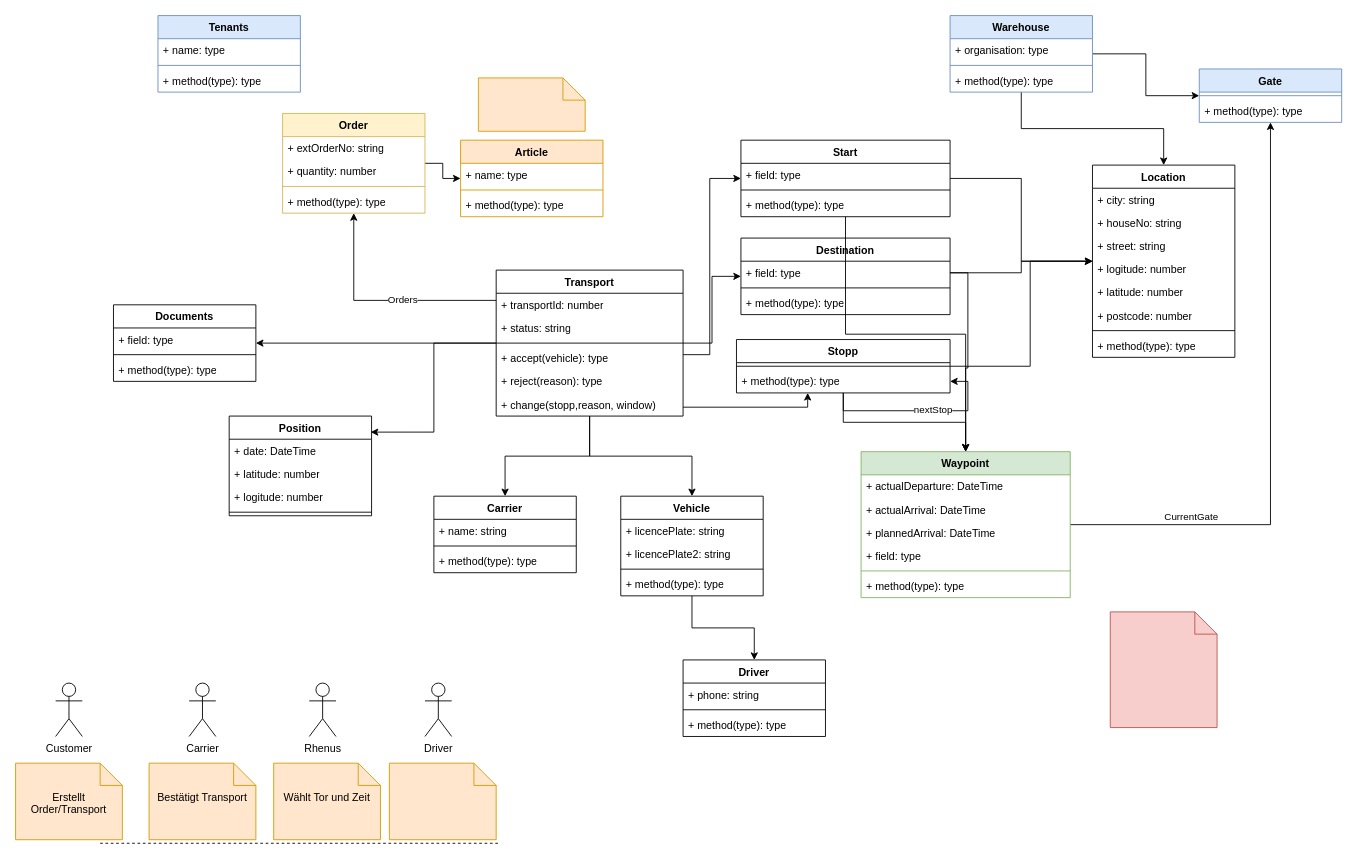
Some shapes in this 1357 by 860 pixel diagram are drawn without their labels. Each missing label, with the centre of its shape:
Aktualisiert ankunft / storniert: the point at 442,801
JSON Payload: the point at 531,104
Wo machen wir die Queue?: the point at 1163,669
